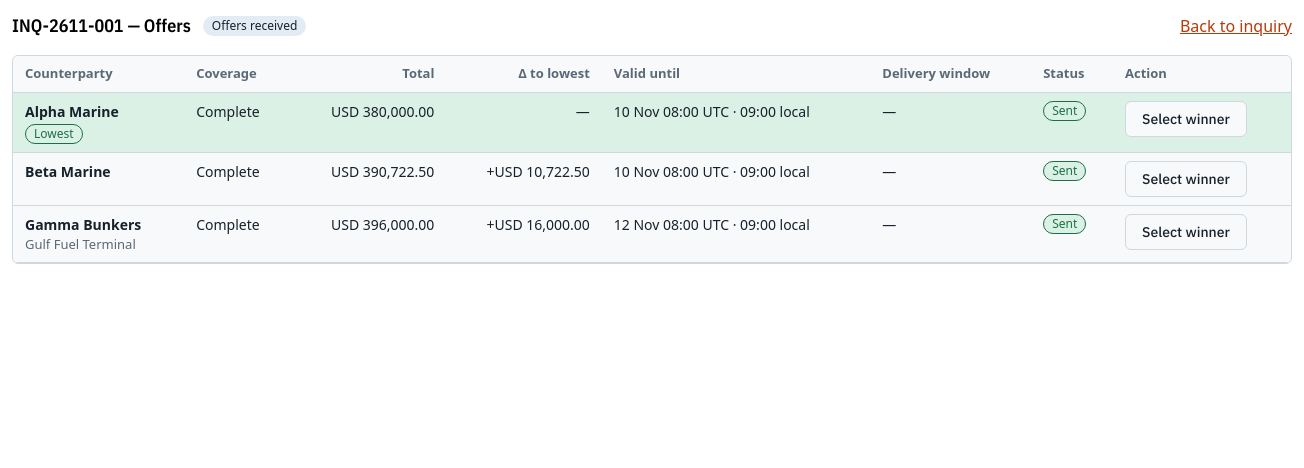
Scenario: Comparison › [B4-R12] the detail panel shows the worked calculation, the fixed costs and the total
Click the row "Beta Marine" at (652, 178), box [13, 152, 1291, 205]
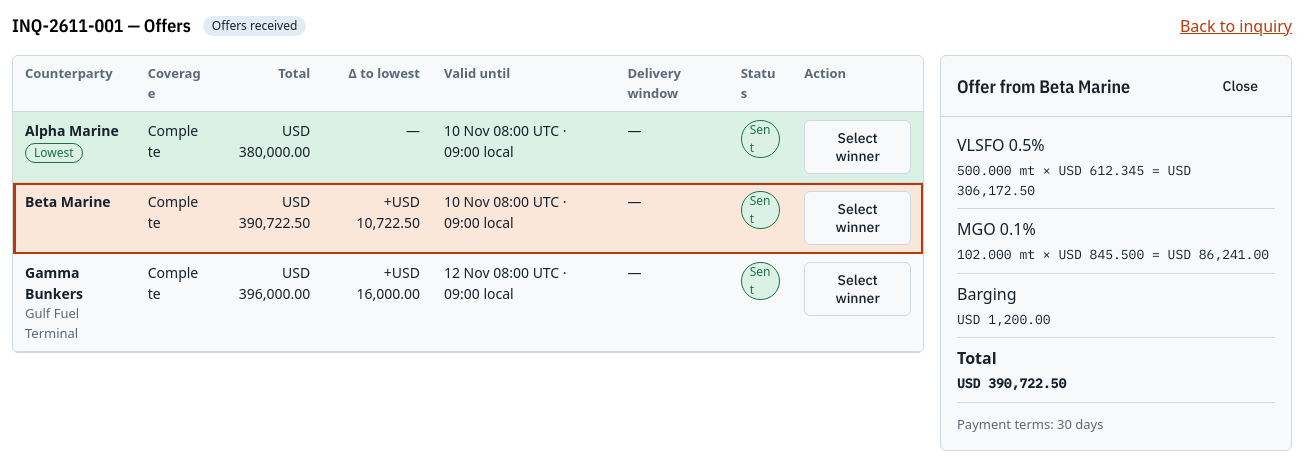
Now the text "500.000 mt × USD 612.345 = USD 306,172.50" is shown, box [957, 162, 1191, 198]
Now the text "102.000 mt × USD 845.500 = USD 86,241.00" is shown, box [957, 245, 1275, 264]
Now the text "USD 1,200.00" is shown, box [957, 310, 1051, 328]
